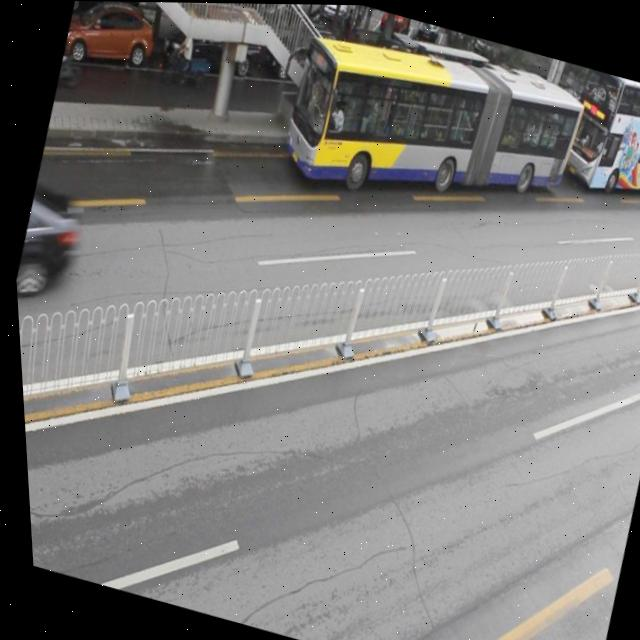car: (156, 2, 267, 83), (60, 1, 163, 78), (347, 33, 438, 111), (264, 14, 349, 94)
van: (274, 13, 591, 234), (554, 65, 640, 210)
